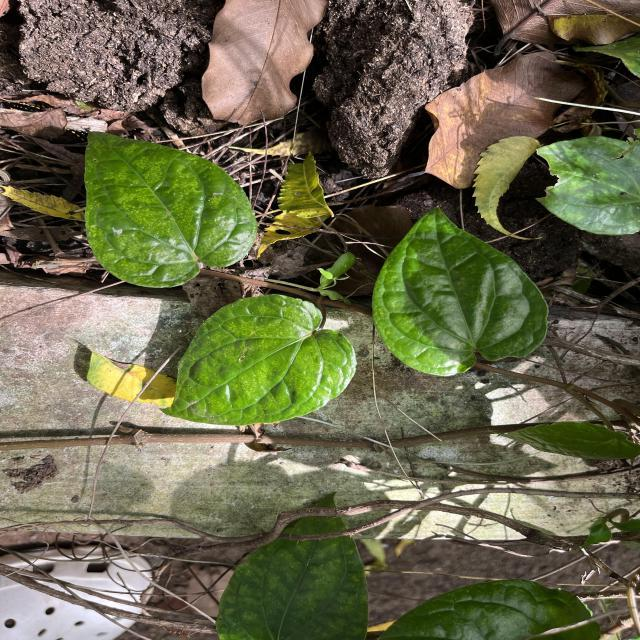Piper betle: (368, 202, 551, 380), (82, 126, 260, 291), (155, 291, 358, 428)
